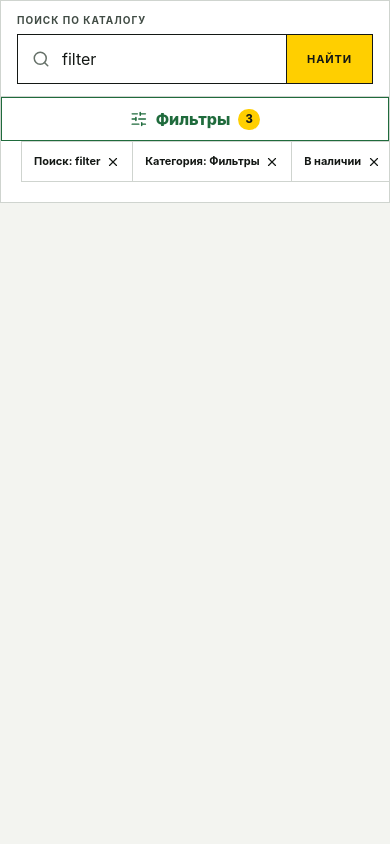
Test: CatalogControls › opens a keyboard-accessible mobile filter drawer and shows active filters
expect the button "В наличии" is shown: met, box [291,141,389,182]
Click the button with aria-label "Открыть фильтры". click: (195,119)
box: [1,97,389,141]
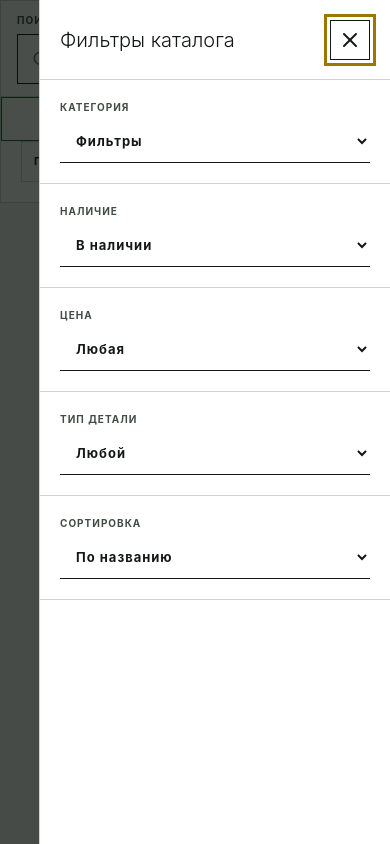
expect the dialog "Фильтры каталога" is shown: met
